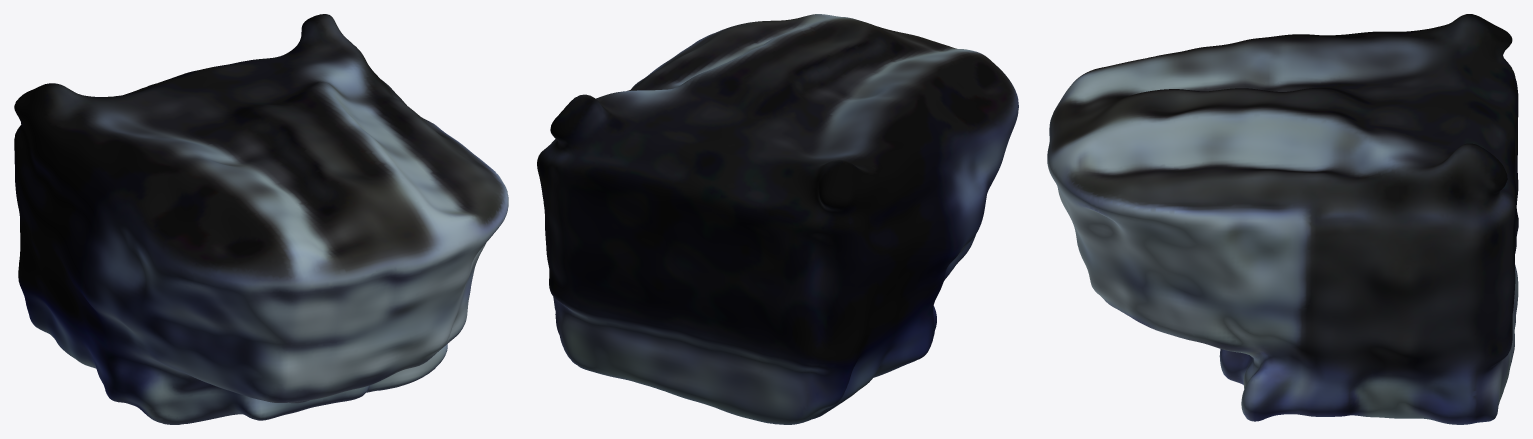
The model's file is backpack.glb.
3 renders of one model, left to right at view 1: azimuth 30°, elevation 25°; view 2: azimuth 150°, elevation 25°; view 3: azimuth 270°, elevation 25°, orthographic. The views are drawn at different scales.
Size of the model in its own units: 0.9063 by 0.6718 by 0.9991.
